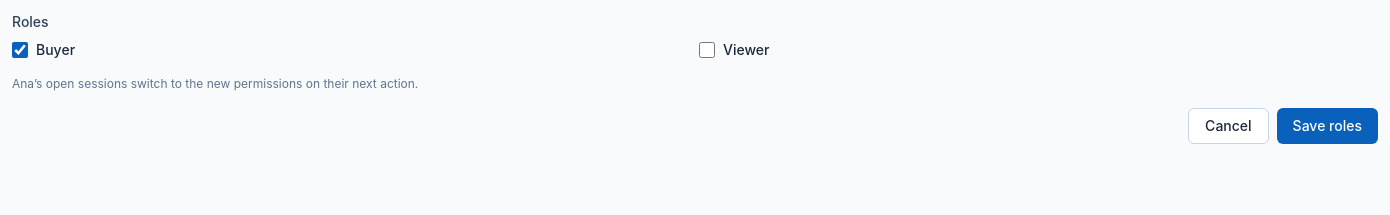
Test: EditRolesForm › shows why the API refused (e.g. the member holds more than the editor)
What coordinates should you click on to do the following:
click the button "Save roles"
I would click on:
 (1327, 126)
Its box is [1277,108,1378,144].
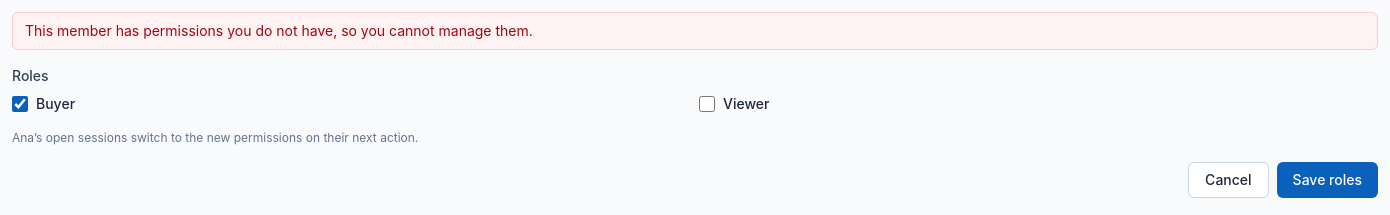
Result: the message shows "cannot manage them" at [25,22,533,39]
